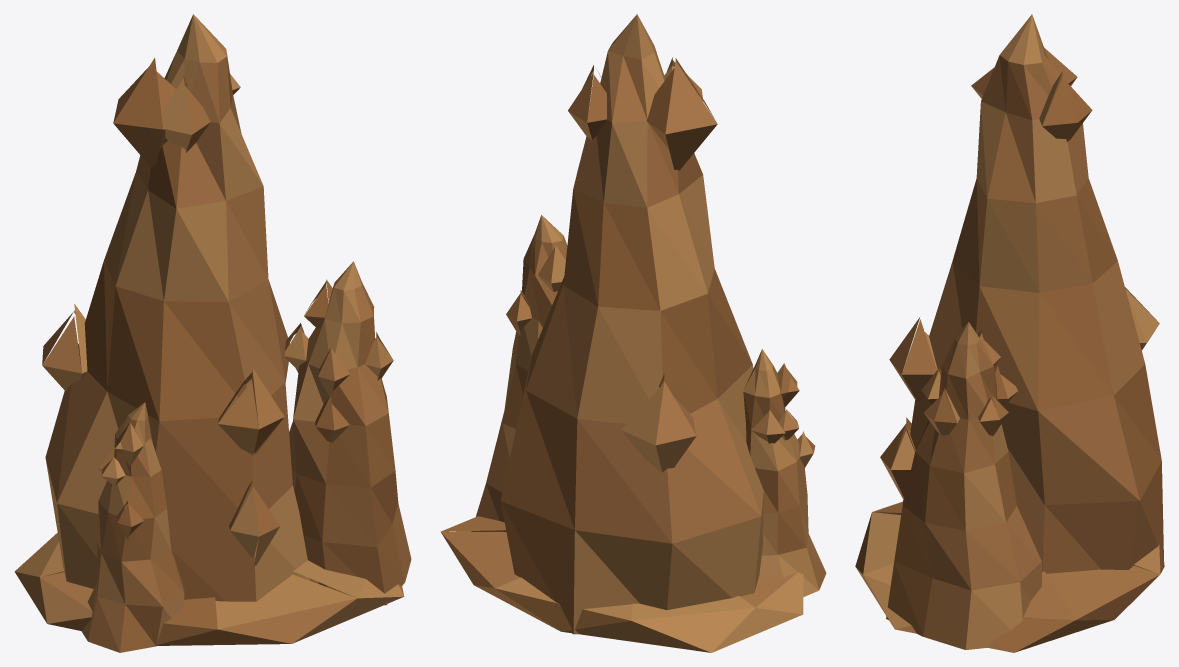
The model's file is termite_mound.glb.
3 views of the same model, side by side, from view 1: azimuth 30°, elevation 25°; view 2: azimuth 150°, elevation 25°; view 3: azimuth 270°, elevation 25° (orthographic). The views are drawn at different scales.
Parts seen in each view (by area): view 1: termite_mound2; view 2: termite_mound2; view 3: termite_mound2.
Part boxes in pixels (x1,y1,x2,y2): termite_mound2: (14,14,411,652); termite_mound2: (441,14,826,652); termite_mound2: (855,14,1164,652).
Bounding box in the file's own units: 2.81 × 4.58 × 2.25.
